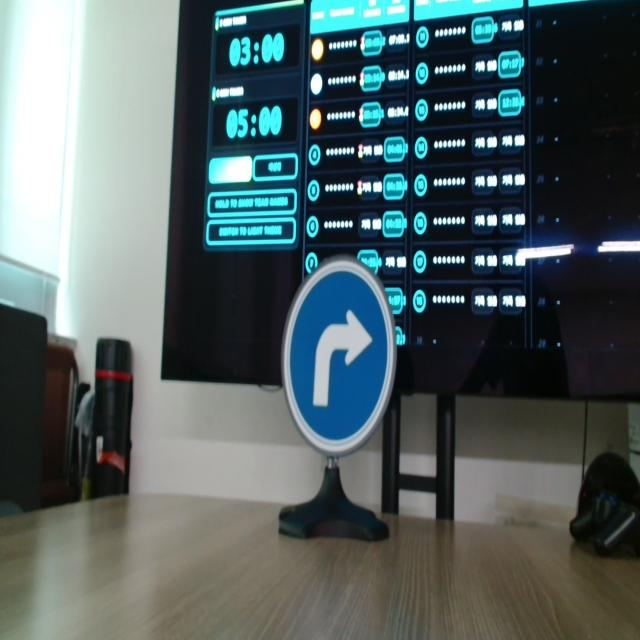right_dierection: (284, 254, 396, 458)
